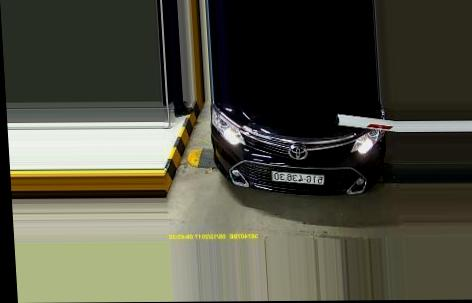License_Plate: (268, 169, 328, 188)
